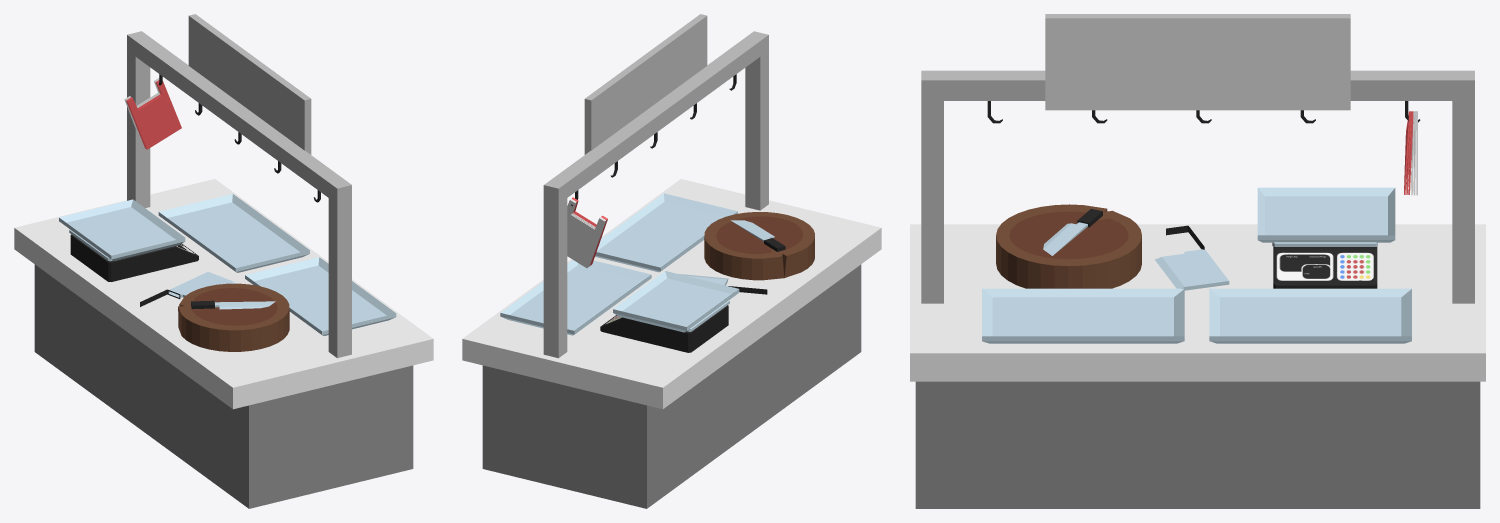
The model's file is meatstall.fbx.
3 renders of one model, left to right at view 1: azimuth 30°, elevation 25°; view 2: azimuth 150°, elevation 25°; view 3: azimuth 270°, elevation 25°, orthographic. The views are drawn at different scales.
Parts seen in each view (by area): view 1: meatstall, stallname, tray.001, choppingboard, tray.002, tray, scale, plastic, knife.001, knife; view 2: meatstall, stallname, choppingboard, tray.002, tray.001, tray, scale, plastic, knife; view 3: meatstall, stallname, tray.002, tray.001, choppingboard, tray, scale, knife.001, plastic, knife.
Boxes of the visible parts, x1,y1,x2,y2 form: meatstall: (14, 31, 433, 508); stallname: (188, 14, 311, 154); tray.001: (158, 194, 309, 272); choppingboard: (178, 283, 289, 351); tray.002: (245, 257, 396, 335); tray: (59, 199, 185, 260); scale: (69, 229, 198, 281); plastic: (124, 78, 181, 149); knife.001: (140, 272, 236, 306); knife: (191, 300, 275, 309); meatstall: (462, 31, 881, 508); stallname: (584, 14, 707, 154); choppingboard: (704, 212, 814, 280); tray.002: (595, 193, 737, 272); tray.001: (500, 260, 651, 335); tray: (613, 271, 739, 332); scale: (600, 300, 729, 352); plastic: (567, 197, 607, 267); knife: (731, 220, 785, 251); meatstall: (910, 70, 1485, 508); stallname: (1045, 14, 1350, 110); tray.002: (982, 288, 1184, 343); tray.001: (1209, 288, 1411, 343); choppingboard: (996, 204, 1141, 288); tray: (1257, 187, 1395, 242); scale: (1272, 242, 1377, 288); knife.001: (1154, 225, 1229, 290); plastic: (1404, 111, 1417, 195); knife: (1043, 209, 1102, 255).
Size of the model in its own units: 2.46 by 4.06 by 4.64.
11 materials, 1 textured.
